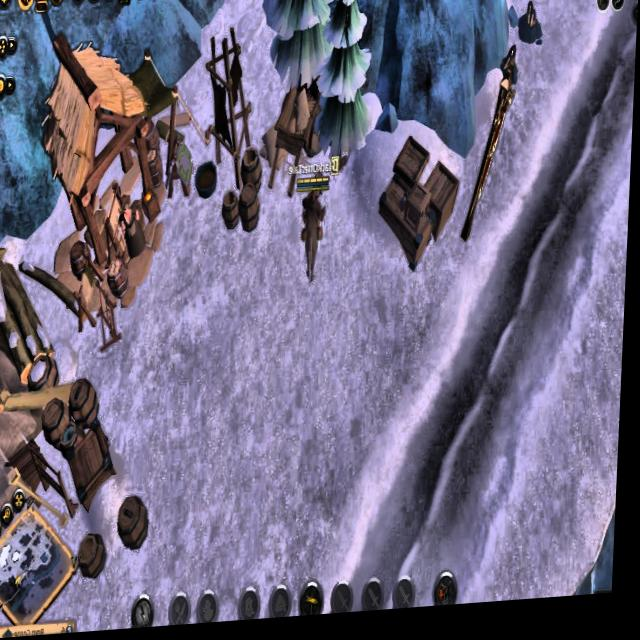copperore: (519, 6, 547, 57)
